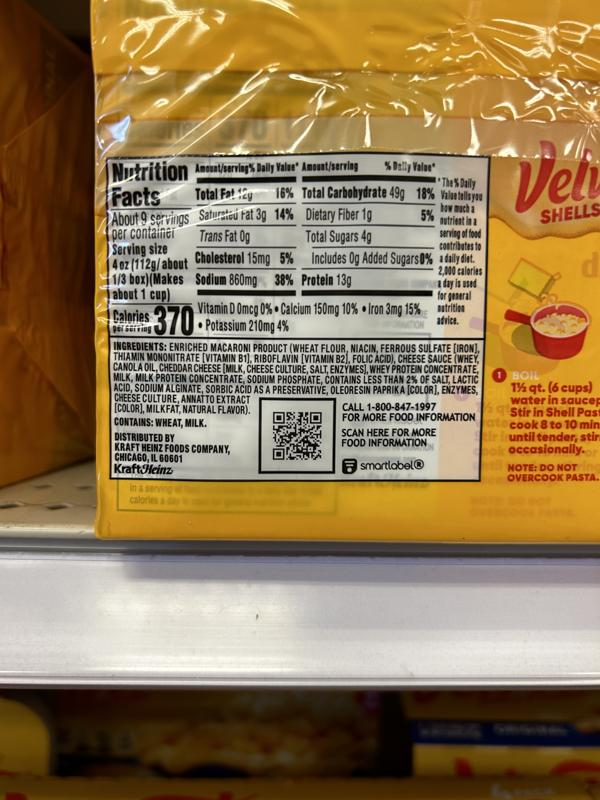ingredients: (112, 340, 480, 415)
